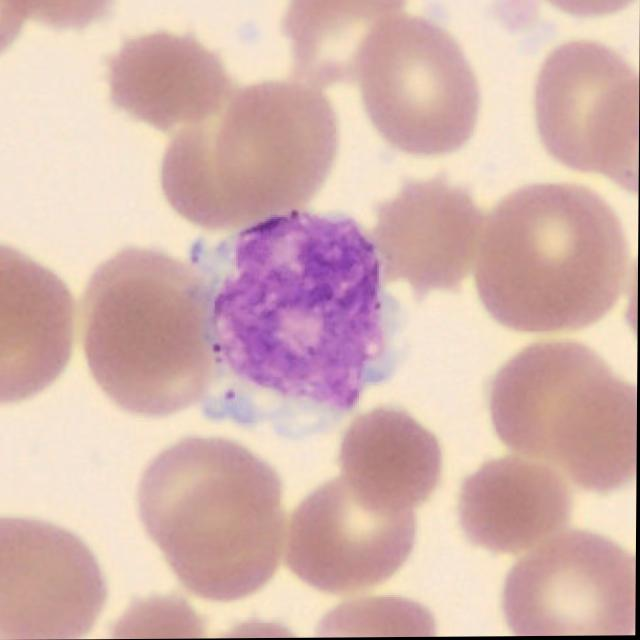Linfocito: (193, 210, 409, 438)
